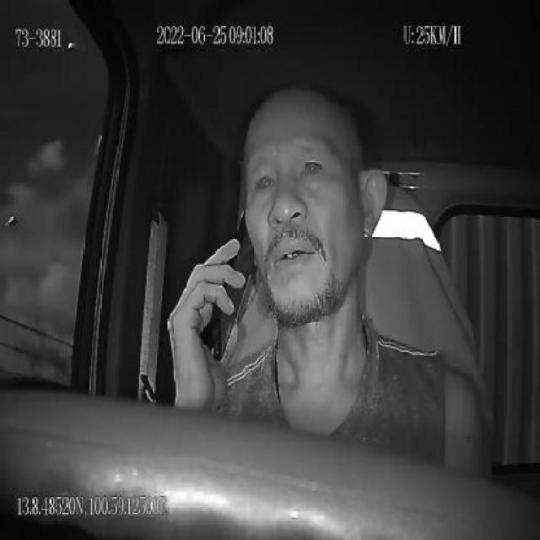phone: (209, 205, 256, 364)
